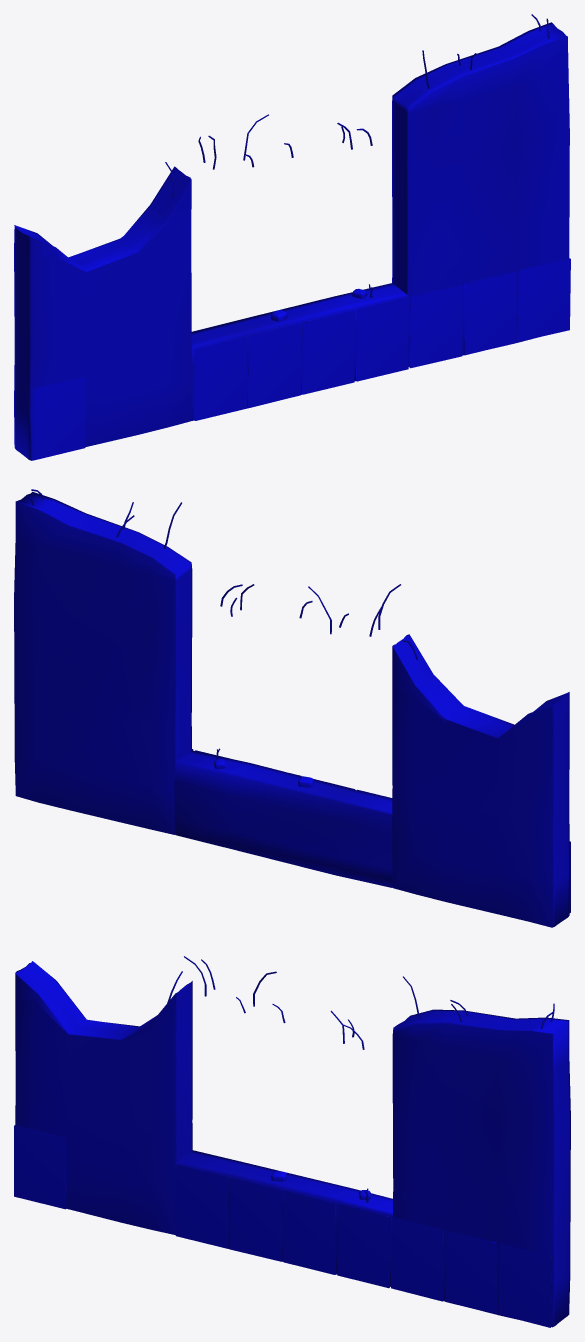
File: tower_bay_broken.glb
3 renders of one model, top to bottom at view 1: azimuth 30°, elevation 25°; view 2: azimuth 150°, elevation 25°; view 3: azimuth 330°, elevation 25°, orthographic.
Visible parts, largest first — view 1: tower_bay_broken; view 2: tower_bay_broken; view 3: tower_bay_broken.
Part boxes in pixels (<box>): tower_bay_broken: <box>14,14,570,460</box>; tower_bay_broken: <box>14,489,570,927</box>; tower_bay_broken: <box>14,956,570,1327</box>.
Size of what is drawn, in the model's own units: 6.02 by 3.38 by 0.4673.
